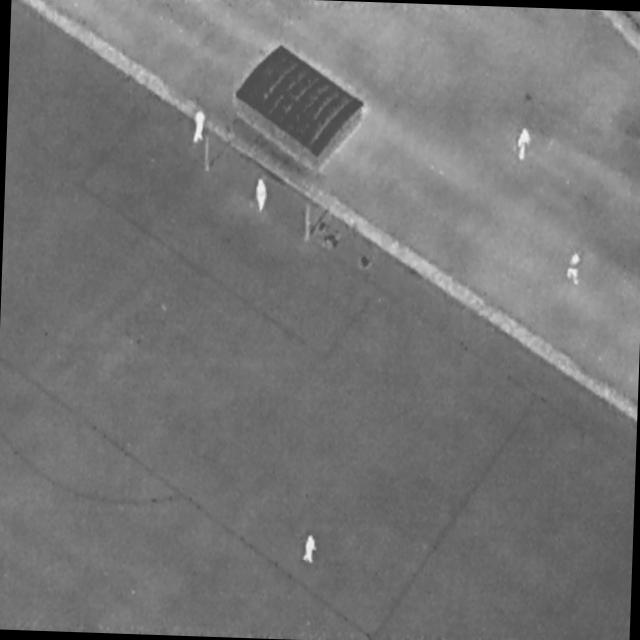person: (564, 246, 585, 287), (252, 175, 270, 213), (515, 125, 532, 161), (301, 532, 319, 565), (191, 109, 207, 144)
